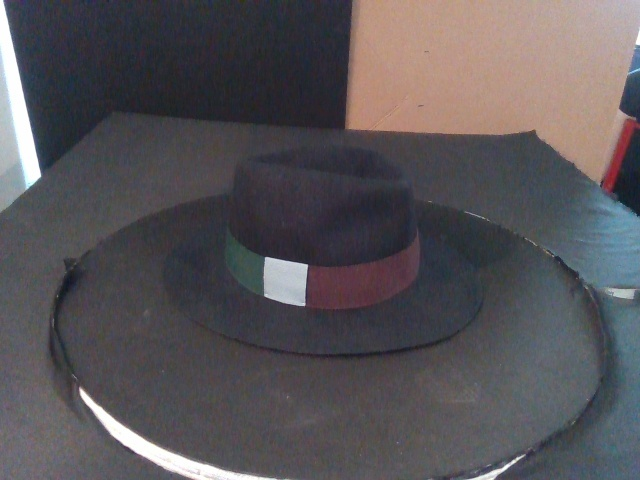hat: (164, 146, 482, 355)
